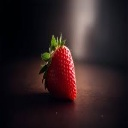strawberry: (39, 30, 79, 103)
